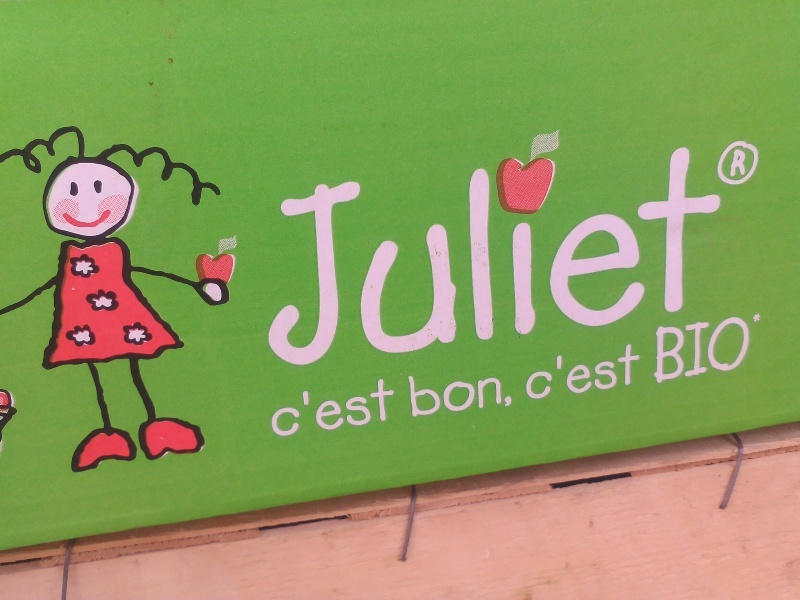text: (257, 122, 272, 376), (273, 122, 288, 376), (289, 122, 304, 376), (305, 122, 320, 376), (321, 122, 336, 376), (337, 122, 352, 376), (353, 122, 368, 376), (369, 122, 384, 376), (385, 122, 400, 376), (401, 122, 416, 376), (417, 122, 432, 376), (433, 122, 448, 376), (449, 122, 464, 376), (465, 122, 480, 376), (481, 122, 496, 376), (497, 122, 512, 376), (513, 122, 528, 376), (529, 122, 544, 376), (545, 122, 560, 376), (561, 122, 576, 376), (577, 122, 592, 376), (593, 122, 608, 376), (609, 122, 624, 376), (625, 122, 640, 376), (641, 122, 656, 376), (657, 122, 672, 376), (673, 122, 688, 376), (689, 122, 704, 376), (705, 122, 720, 376), (247, 122, 256, 376), (657, 315, 672, 386), (673, 315, 688, 386), (689, 315, 704, 386), (705, 315, 720, 386), (721, 315, 736, 386), (737, 315, 752, 386), (273, 373, 288, 442), (289, 373, 304, 442), (305, 373, 320, 442), (321, 373, 336, 442), (337, 373, 352, 442), (353, 373, 368, 442), (369, 373, 384, 442), (721, 122, 725, 376), (385, 373, 399, 442), (417, 364, 432, 425), (433, 364, 448, 425), (449, 364, 464, 425), (465, 364, 480, 425), (481, 364, 496, 425), (497, 364, 512, 425), (529, 342, 544, 403), (545, 342, 560, 403), (561, 342, 576, 403), (577, 342, 592, 403), (593, 342, 608, 403), (609, 342, 624, 403), (625, 342, 640, 403), (518, 342, 528, 403), (407, 364, 416, 425), (266, 373, 272, 442), (651, 315, 656, 386), (737, 147, 748, 177), (729, 147, 736, 177), (513, 364, 515, 425), (641, 342, 643, 403), (753, 315, 754, 386)
